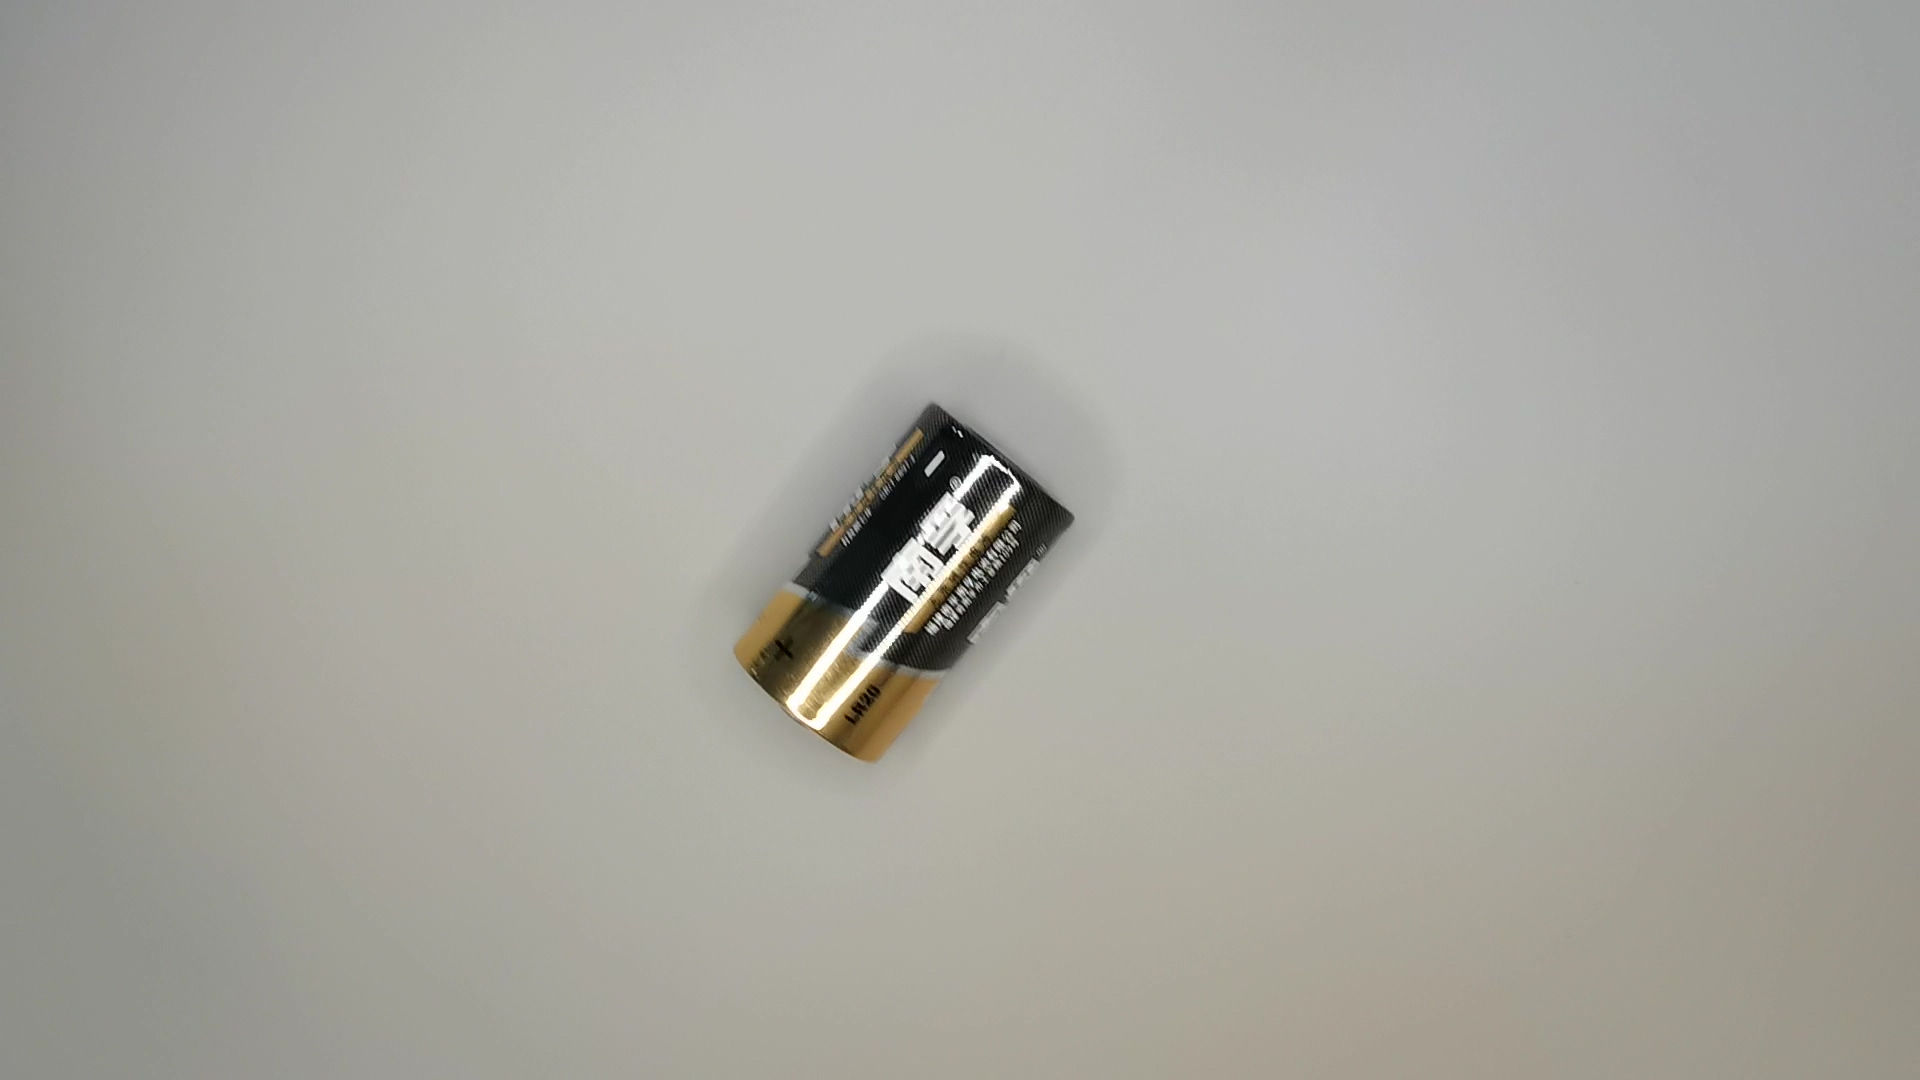battery: (728, 396, 1083, 775)
